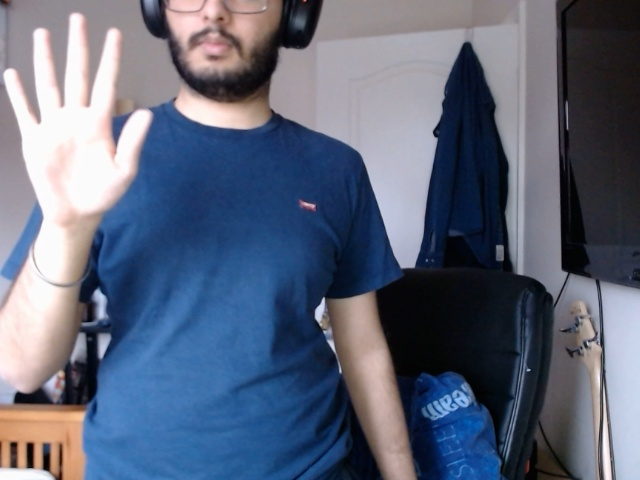Hello: (1, 6, 160, 248)
